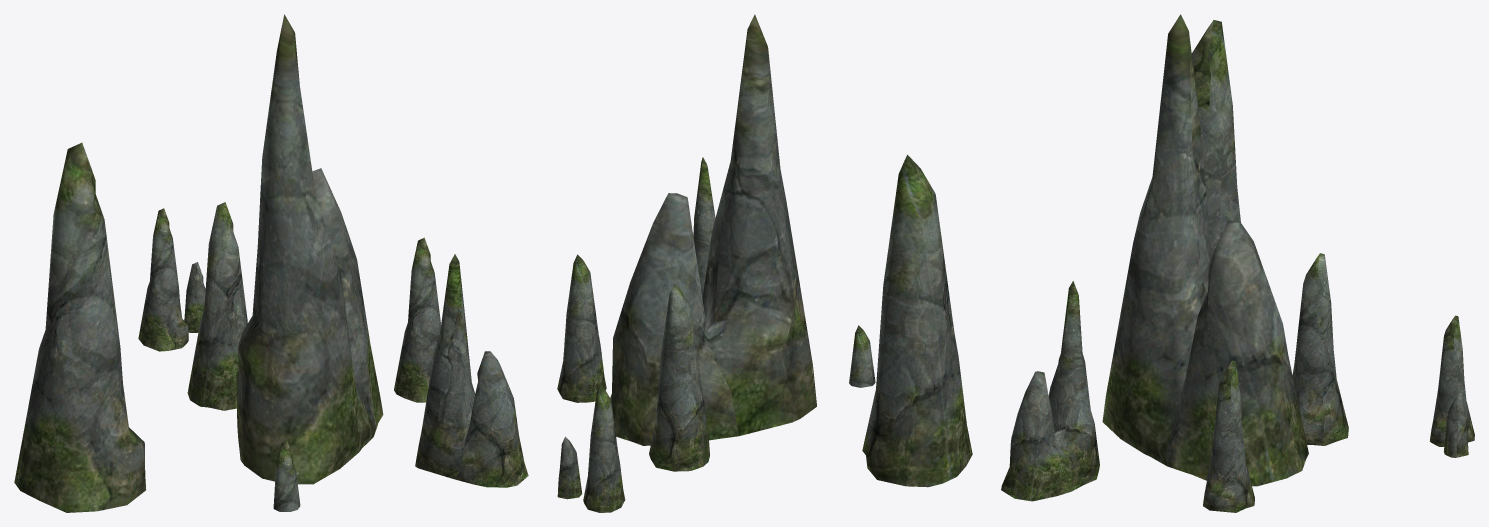
File: stone_07.FBX
3 renders of one model, left to right at view 1: azimuth 30°, elevation 25°; view 2: azimuth 150°, elevation 25°; view 3: azimuth 270°, elevation 25°, orthographic. The views are drawn at different scales.
Visible parts, largest first — view 1: stone_07_02; view 2: stone_07_02; view 3: stone_07_02.
Boxes of the visible parts, x1,y1,x2,y2 form: stone_07_02: (14, 14, 528, 512); stone_07_02: (557, 14, 972, 512); stone_07_02: (1001, 14, 1474, 512).
Size of the model in its own units: 3.02 by 2.94 by 3.04.
